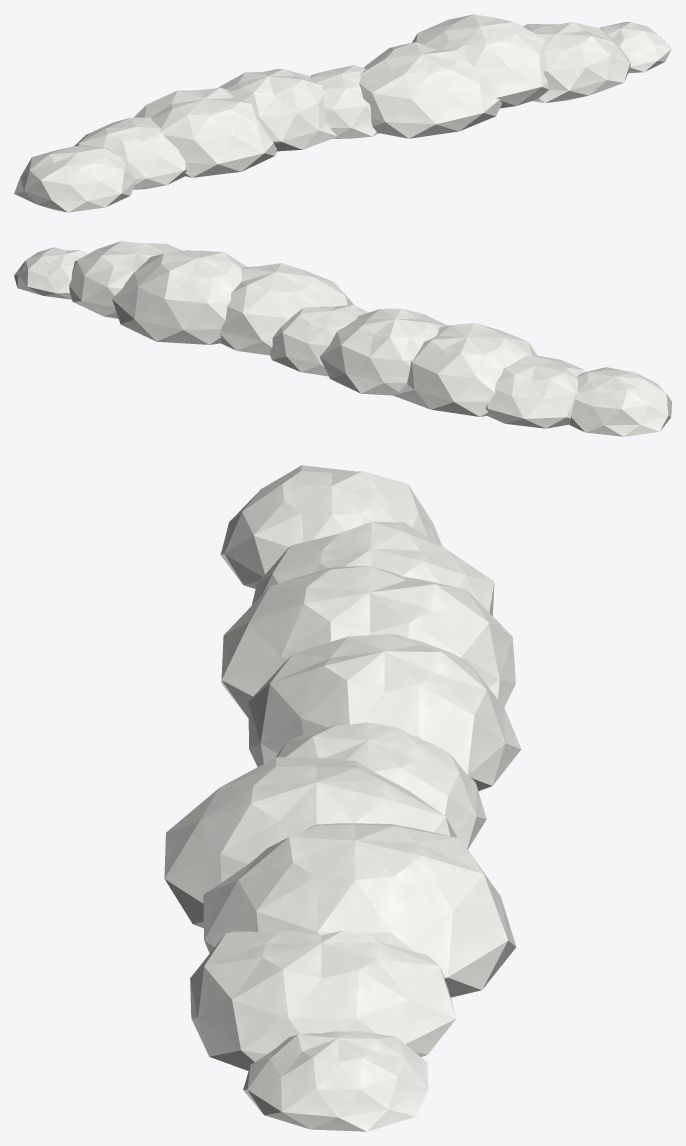
The model's file is cloud_bank.obj.
The picture shows the model from 3 angles, top to bottom: view 1: azimuth 30°, elevation 25°; view 2: azimuth 150°, elevation 25°; view 3: azimuth 270°, elevation 25°; orthographic projection. The views are drawn at different scales.
Parts seen in each view (by area): view 1: cloud_bank; view 2: cloud_bank; view 3: cloud_bank.
Part boxes in pixels (x1=…): cloud_bank: x1=14, y1=14, x2=671, y2=212; cloud_bank: x1=14, y1=241, x2=671, y2=436; cloud_bank: x1=164, y1=465, x2=521, y2=1131.
Bounding box in the file's own units: 47.14 × 4.41 × 11.36.
Materials: 1 (1 with a texture image).
